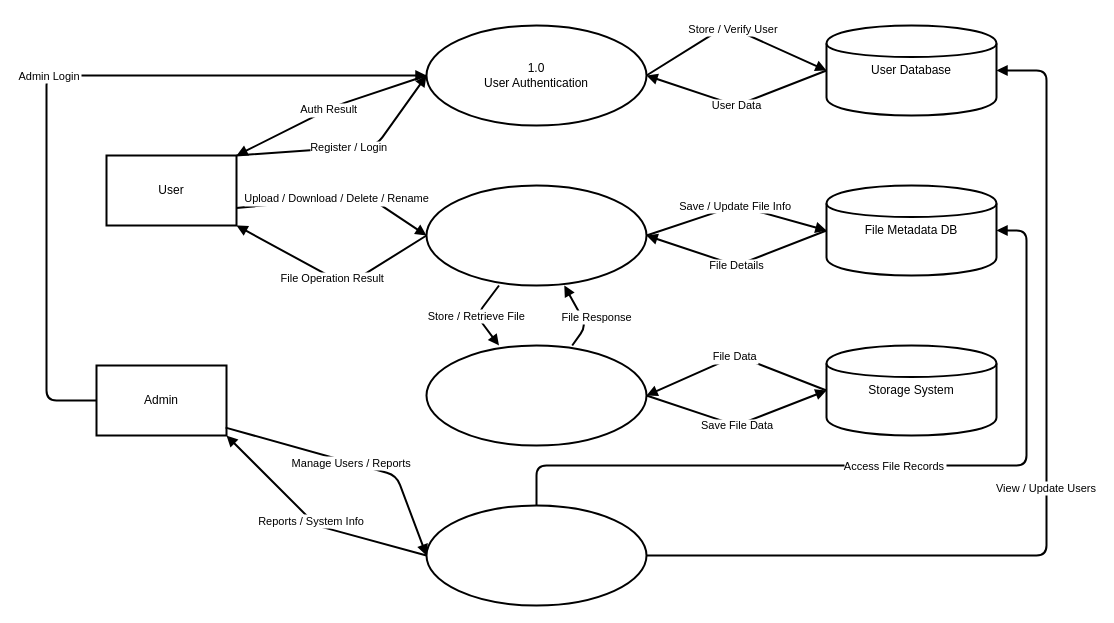
The diagram is 1114 pixels wide and 623 high, and some of its shapes have lost their labels. Each missing label, with the box of its shape:
2.0 File Management: (425, 184, 647, 286)
3.0 Storage Management: (425, 344, 647, 446)
4.0 Admin Management: (425, 504, 647, 606)
